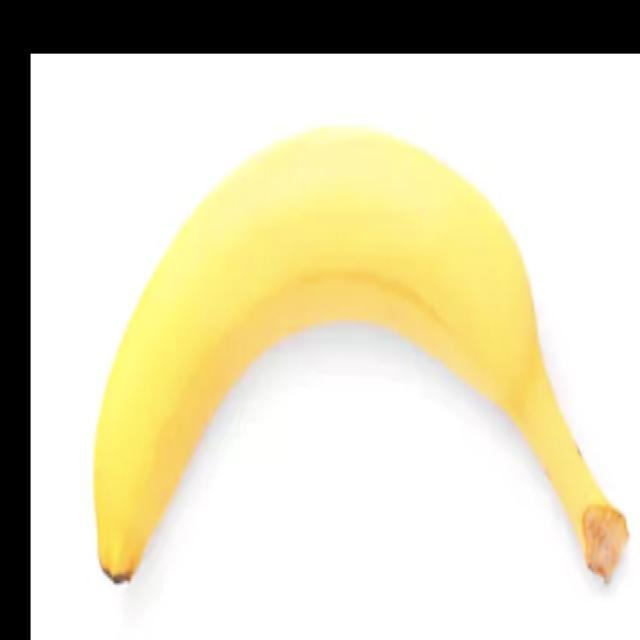Banana: (92, 123, 629, 587)
